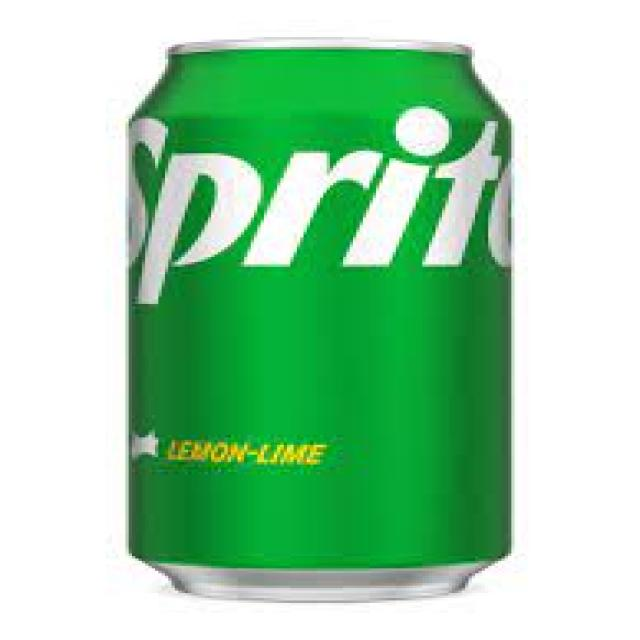aluminum_can: (129, 44, 511, 599)
